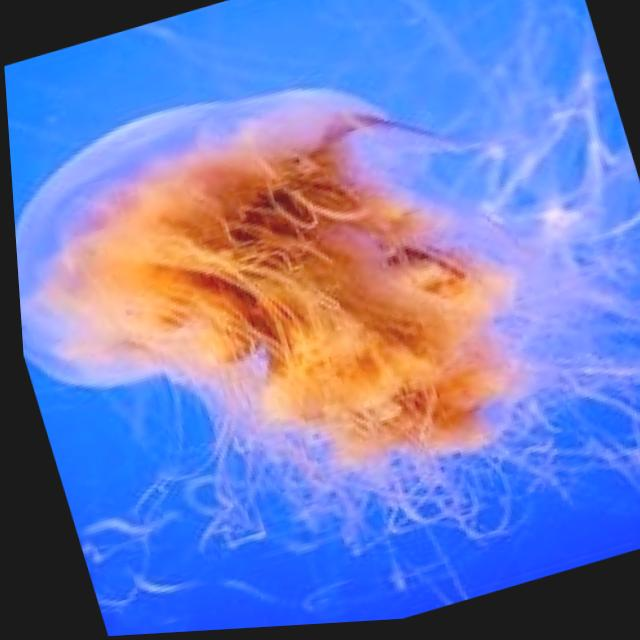Moon-jellyfish: (1, 0, 640, 640)
